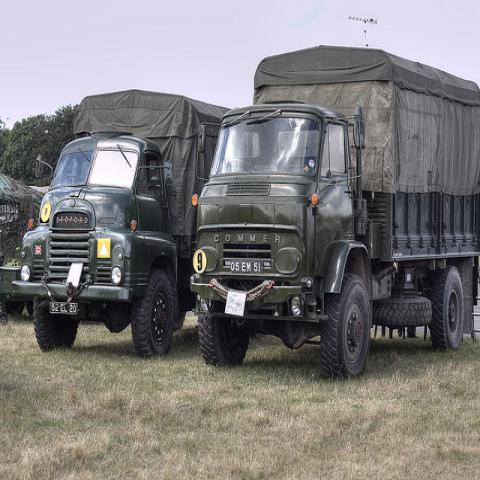truck: (190, 45, 479, 384), (12, 92, 232, 356), (0, 174, 47, 267)
